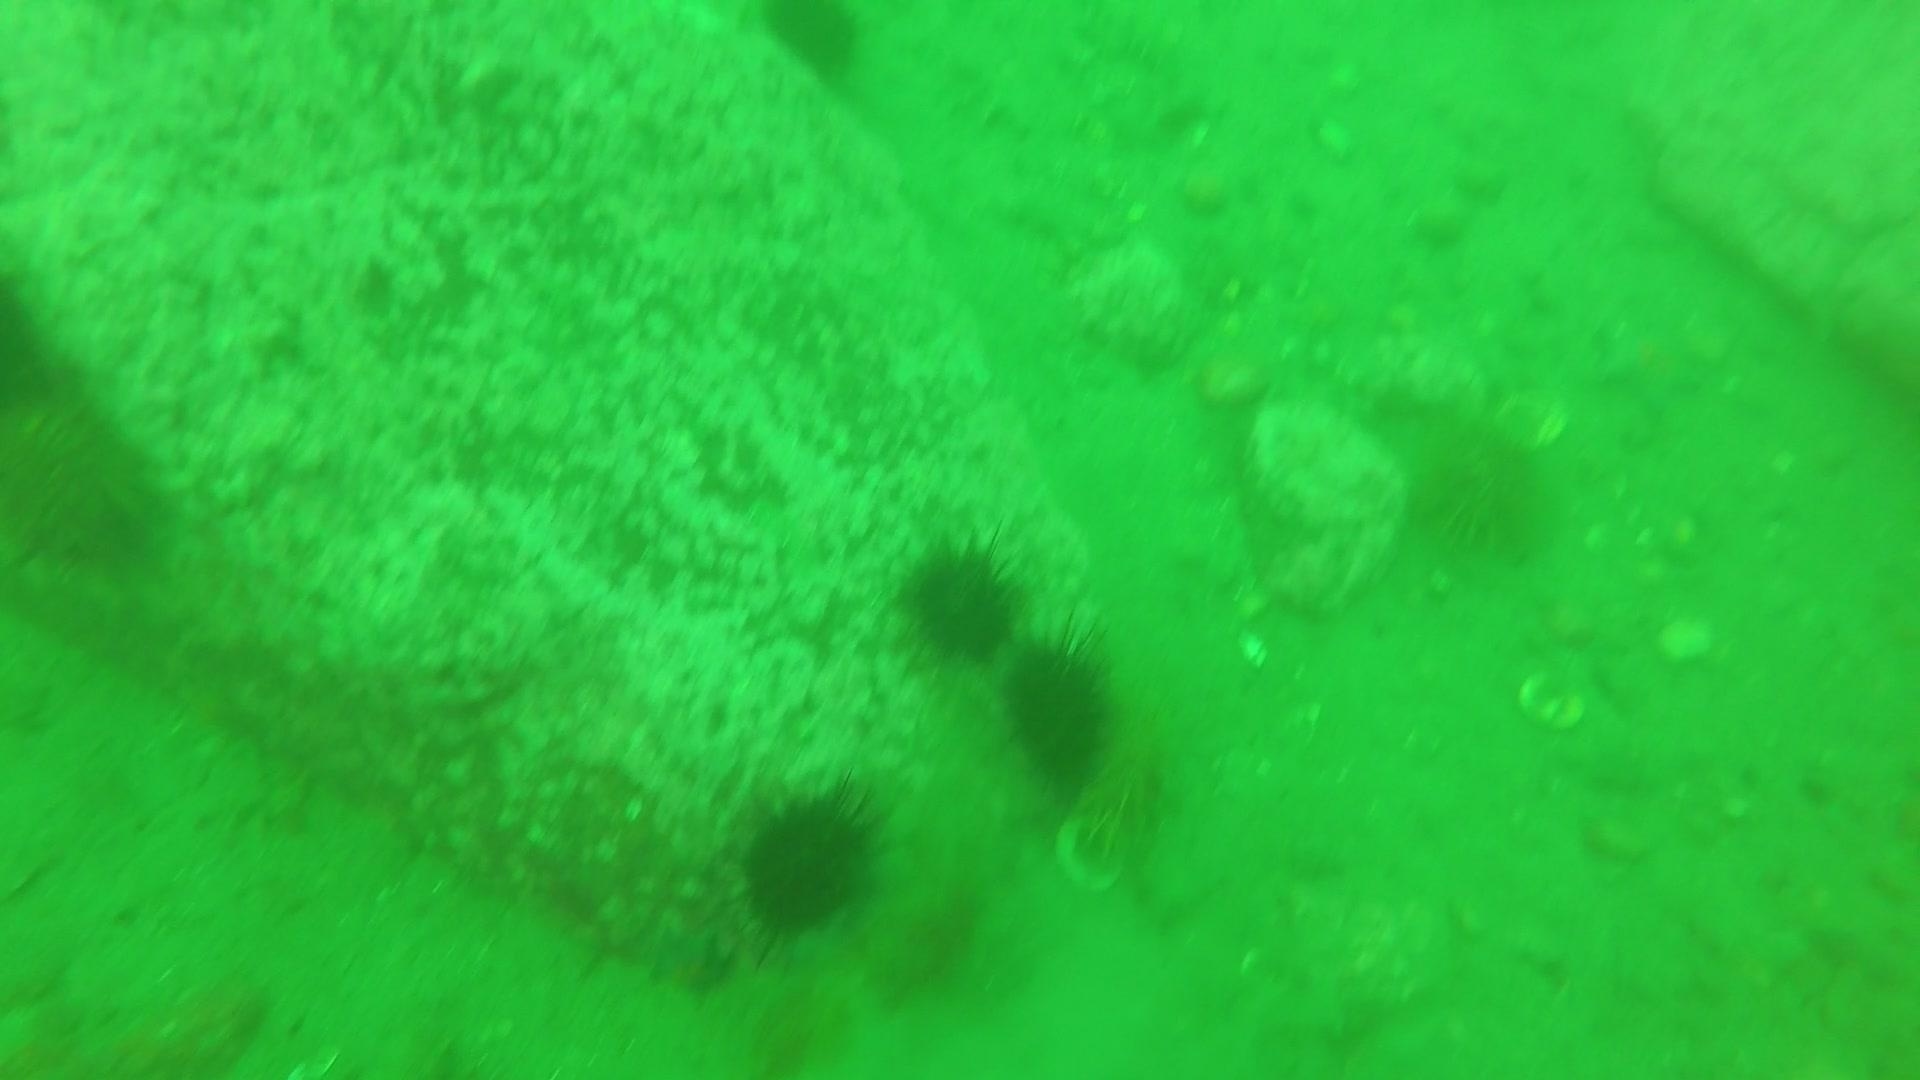echinus: (1, 375, 177, 582), (731, 779, 891, 944), (1400, 406, 1557, 562), (992, 620, 1124, 793), (893, 530, 1033, 669), (752, 1, 872, 88)
starfish: (1592, 309, 1716, 417)
